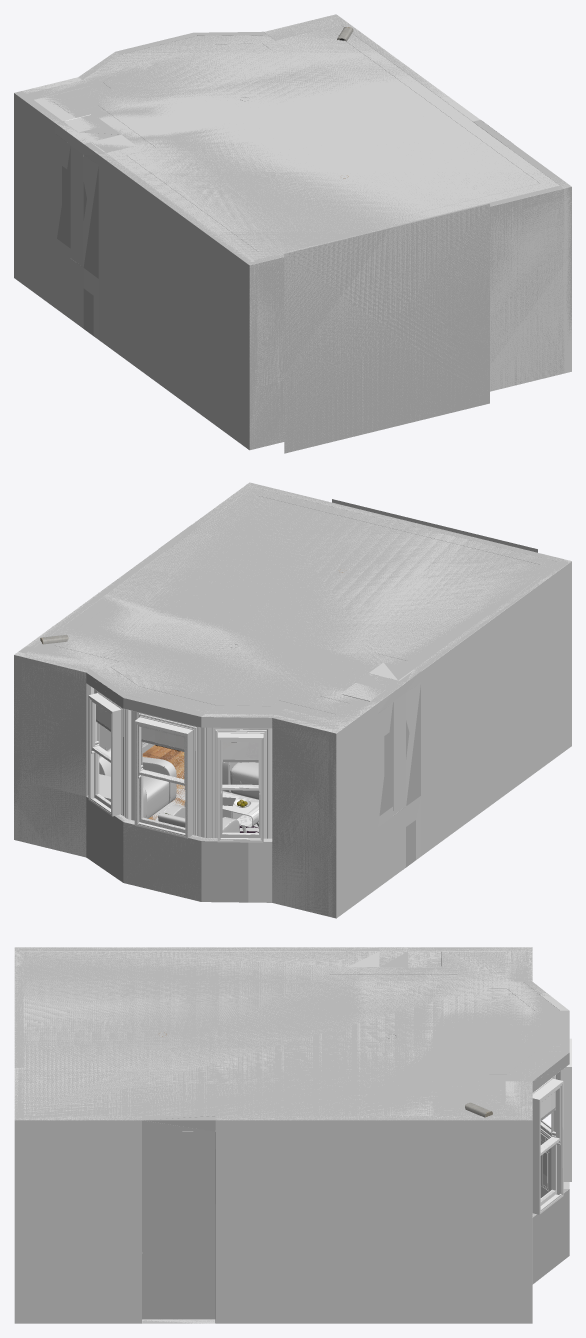
File: living.glb
3 renders of one model, top to bottom at view 1: azimuth 30°, elevation 25°; view 2: azimuth 150°, elevation 25°; view 3: azimuth 270°, elevation 25°, orthographic. The views are drawn at different scales.
Parts seen in each view (by area): view 1: COL_static, living_static; view 2: living_static, COL_static; view 3: COL_static, living_static.
Boxes of the visible parts, x1,y1,x2,y2 form: COL_static: (14, 14, 571, 452); living_static: (14, 14, 571, 453); living_static: (14, 482, 570, 918); COL_static: (14, 482, 571, 918); COL_static: (14, 947, 569, 1323); living_static: (14, 947, 571, 1323).
Bounding box in the file's own units: 5.73 × 3.4 × 7.81.
Materials: 79 (45 with a texture image).
